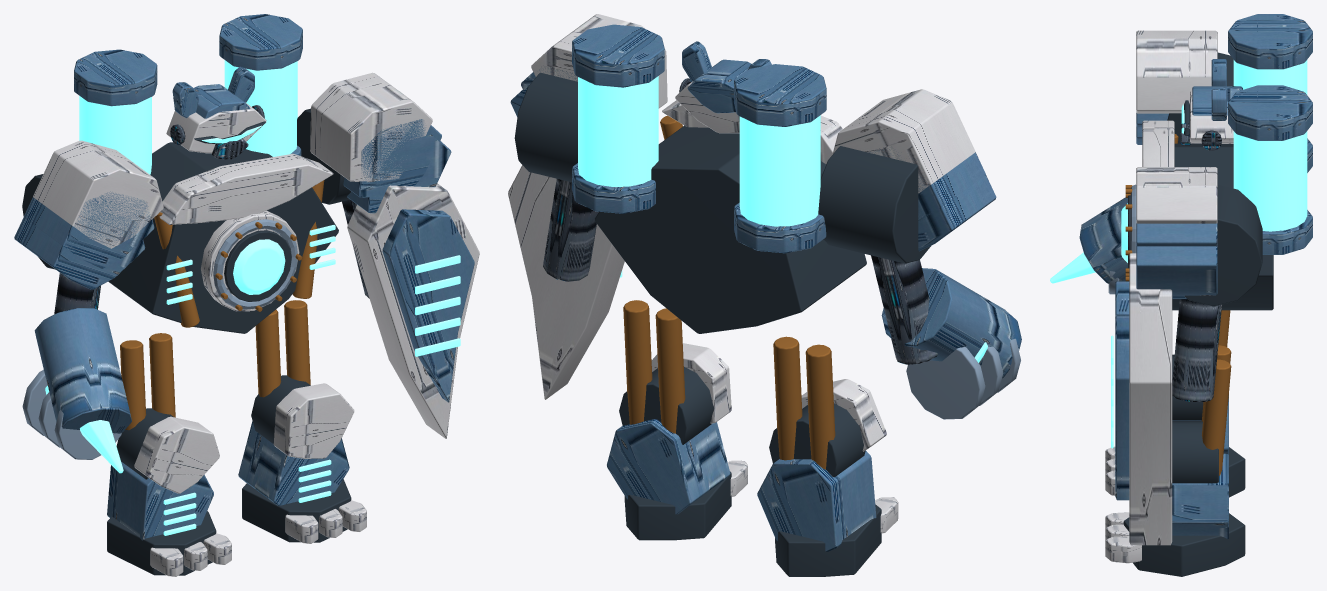
The model's file is cryo_warden.glb.
The picture shows the model from 3 angles, left to right: view 1: azimuth 30°, elevation 25°; view 2: azimuth 150°, elevation 25°; view 3: azimuth 270°, elevation 25°; orthographic projection. The views are drawn at different scales.
Visible parts, largest first — view 1: Scalloped shoulder armor.003, Scalloped shoulder armor.001, Scalloped shoulder armor.004, Angular main chassis, Collar armor, Energy nucleus, Navy crown, Scalloped shoulder armor, Knee impact armor.001, Knee impact armor, Shin carapace, Shin carapace.001 (+14 smaller); view 2: Angular main chassis, Navy crown, Energy nucleus, Scalloped shoulder armor.003, Scalloped shoulder armor.001, Shoulder pivot, Shin carapace, Shin carapace.001, Scalloped shoulder armor, Gait pivot.001, Gait pivot, Exposed thigh piston (+8 smaller); view 3: Scalloped shoulder armor.003, Navy crown, Scalloped shoulder armor.004, Energy nucleus, Gait pivot.001, Scalloped shoulder armor, Shoulder pivot.001, Forearm piston.001, Angular main chassis, Shin carapace.001, Scalloped shoulder armor.001, Collar armor (+9 smaller).
Part boxes in pixels (x1,y1,x2,y2): Scalloped shoulder armor.003: (310,72,479,438); Scalloped shoulder armor.001: (14,191,154,433); Scalloped shoulder armor.004: (343,119,474,402); Angular main chassis: (108,121,338,333); Collar armor: (159,102,333,311); Energy nucleus: (79,60,335,304); Navy crown: (74,14,302,155); Scalloped shoulder armor: (33,140,163,248); Knee impact armor.001: (273,383,366,543); Knee impact armor: (134,416,231,576); Shin carapace: (107,461,213,540); Shin carapace.001: (238,421,349,505); Angular main chassis: (595,125,866,333); Navy crown: (572,24,826,253); Energy nucleus: (578,76,820,226); Scalloped shoulder armor.003: (508,14,667,399); Scalloped shoulder armor.001: (867,146,1021,378); Shoulder pivot: (818,146,930,263); Shin carapace: (757,450,876,551); Shin carapace.001: (607,419,730,514); Scalloped shoulder armor: (832,89,975,193); Gait pivot.001: (619,367,731,540); Gait pivot: (769,403,881,576); Exposed thigh piston: (773,336,835,469); Scalloped shoulder armor.003: (1129,167,1217,545); Navy crown: (1192,14,1312,254); Scalloped shoulder armor.004: (1115,223,1217,500); Energy nucleus: (1121,60,1307,262); Gait pivot.001: (1123,421,1245,576); Scalloped shoulder armor: (1136,30,1217,113); Shoulder pivot.001: (1184,185,1262,306); Forearm piston.001: (1172,299,1221,401); Angular main chassis: (1128,100,1273,310); Shin carapace.001: (1172,453,1228,539); Scalloped shoulder armor.001: (1079,113,1168,283); Collar armor: (1142,91,1233,166).
Size of the model in its own units: 3.26 by 3.28 by 1.71.
Materials: 7 (3 with a texture image).
